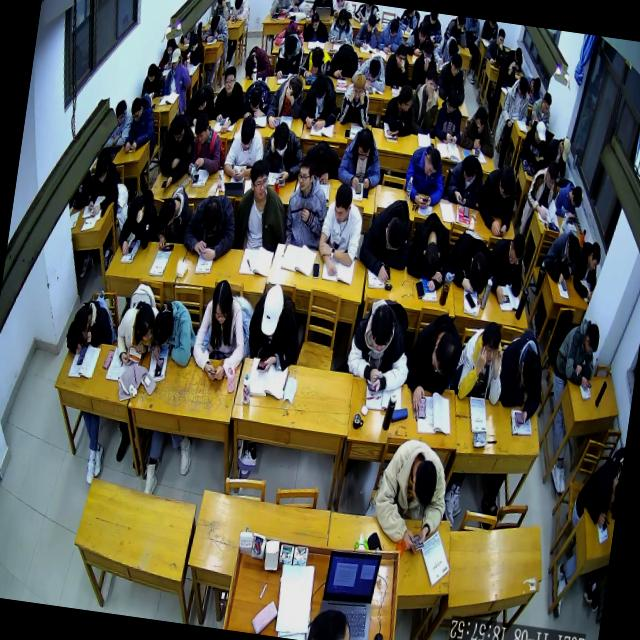bow: (492, 324, 552, 428), (355, 191, 417, 283), (180, 188, 240, 266), (404, 208, 456, 292), (147, 295, 200, 368), (445, 226, 496, 298), (64, 295, 118, 361), (112, 296, 160, 368), (258, 119, 308, 185), (152, 178, 196, 252), (457, 102, 501, 158), (541, 227, 584, 284), (380, 79, 420, 139), (570, 238, 604, 303), (302, 138, 343, 188), (182, 81, 218, 129), (350, 51, 390, 94), (326, 38, 364, 82), (240, 75, 274, 123), (299, 44, 333, 84), (242, 44, 274, 83), (274, 16, 308, 48), (432, 33, 462, 68), (181, 29, 207, 68), (202, 10, 231, 42), (524, 72, 544, 102)
down: (408, 456, 440, 512), (258, 280, 288, 338), (428, 326, 460, 380), (367, 301, 398, 356), (150, 301, 178, 351), (208, 277, 236, 326), (517, 346, 545, 394), (331, 180, 356, 228), (382, 214, 408, 255), (200, 196, 224, 238), (496, 164, 520, 202), (236, 115, 258, 155), (70, 306, 92, 345), (506, 230, 528, 268), (420, 144, 442, 180), (271, 121, 292, 158), (355, 126, 376, 162), (126, 191, 147, 227), (310, 71, 330, 108), (310, 143, 330, 180), (582, 321, 602, 358), (157, 197, 178, 230), (192, 112, 212, 146), (564, 232, 584, 266), (460, 151, 480, 184), (542, 160, 562, 193), (93, 152, 111, 186), (284, 73, 304, 103), (170, 111, 188, 144), (587, 240, 604, 274), (350, 71, 368, 103), (194, 82, 212, 111), (128, 96, 145, 126), (532, 118, 549, 148), (338, 41, 355, 70), (282, 32, 298, 62), (248, 82, 264, 112), (421, 36, 436, 66), (114, 98, 130, 126), (448, 52, 464, 80), (310, 44, 326, 70), (366, 58, 382, 84), (558, 134, 572, 162), (569, 185, 584, 211), (416, 18, 430, 44), (516, 74, 530, 100), (540, 90, 554, 116), (365, 12, 378, 36), (388, 16, 401, 38), (444, 38, 458, 58), (208, 15, 222, 34), (146, 62, 158, 84), (188, 31, 200, 52), (310, 10, 322, 31), (336, 8, 348, 29), (166, 36, 177, 57), (496, 28, 507, 48), (513, 45, 524, 62), (232, 0, 244, 13), (215, 0, 227, 10)
lookup: (478, 321, 503, 369), (248, 157, 272, 200), (422, 64, 440, 97), (222, 64, 238, 94), (393, 41, 409, 70), (169, 46, 182, 71)
sit: (368, 433, 454, 558), (342, 294, 418, 398), (188, 275, 255, 390), (402, 310, 468, 418), (242, 278, 307, 377), (231, 157, 295, 256), (314, 178, 368, 281), (450, 317, 510, 407), (282, 154, 334, 252), (550, 314, 602, 391), (570, 456, 623, 530), (334, 123, 388, 193), (474, 159, 520, 239), (154, 109, 198, 192), (400, 140, 450, 211), (221, 112, 270, 184), (484, 230, 529, 308), (118, 185, 162, 257), (185, 111, 228, 180), (298, 68, 342, 134), (264, 68, 308, 134), (210, 62, 248, 136), (444, 151, 488, 214), (406, 64, 444, 135), (86, 150, 124, 220), (122, 93, 162, 157), (523, 157, 563, 220), (431, 86, 468, 146), (337, 70, 374, 130), (436, 50, 471, 105), (501, 73, 534, 129), (163, 42, 197, 96), (273, 28, 307, 80), (409, 36, 440, 92), (382, 42, 414, 91), (106, 98, 135, 152), (519, 118, 549, 166), (554, 178, 584, 224), (543, 132, 573, 178), (376, 15, 408, 56), (328, 7, 358, 48), (403, 18, 433, 59), (140, 62, 168, 104), (353, 13, 382, 52), (530, 90, 556, 132), (302, 7, 332, 43), (484, 27, 509, 68), (495, 57, 519, 90), (160, 34, 180, 70), (208, 0, 232, 25), (230, 0, 253, 23), (506, 45, 525, 72)
